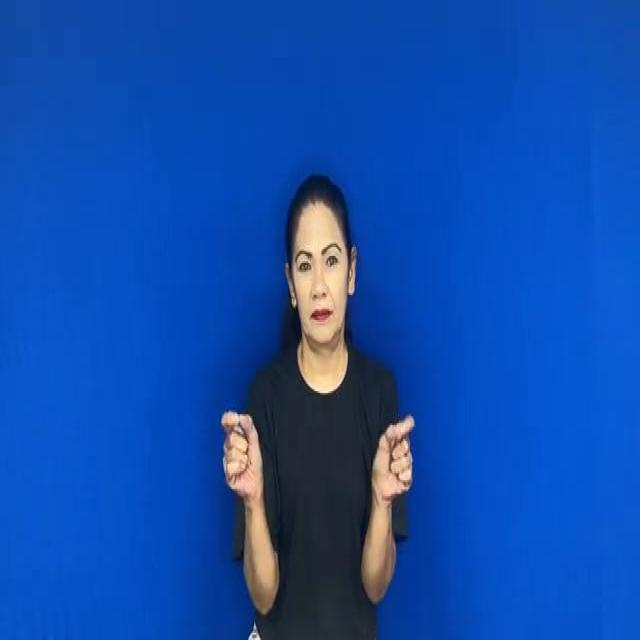crab: (216, 402, 276, 510), (370, 402, 422, 503)
